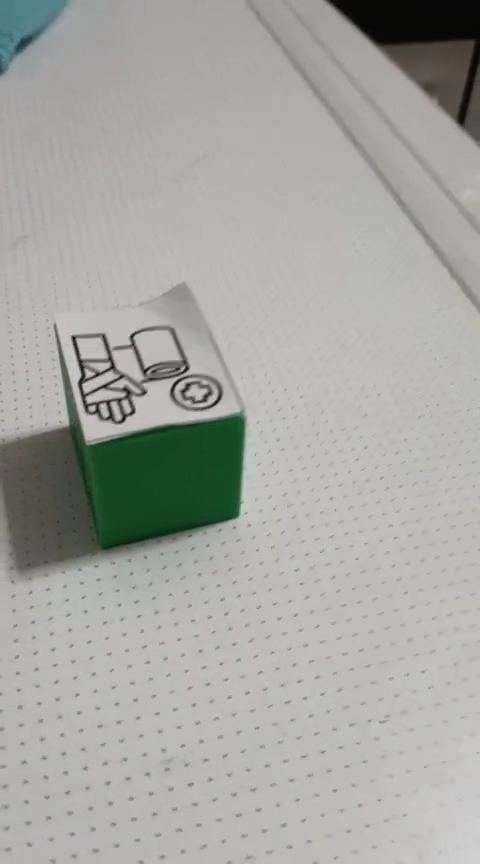Bandages: (52, 280, 247, 549)
